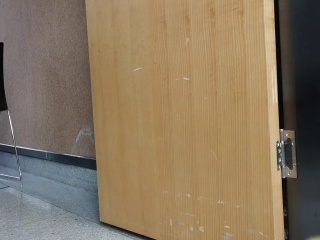room: (1, 2, 319, 240)
